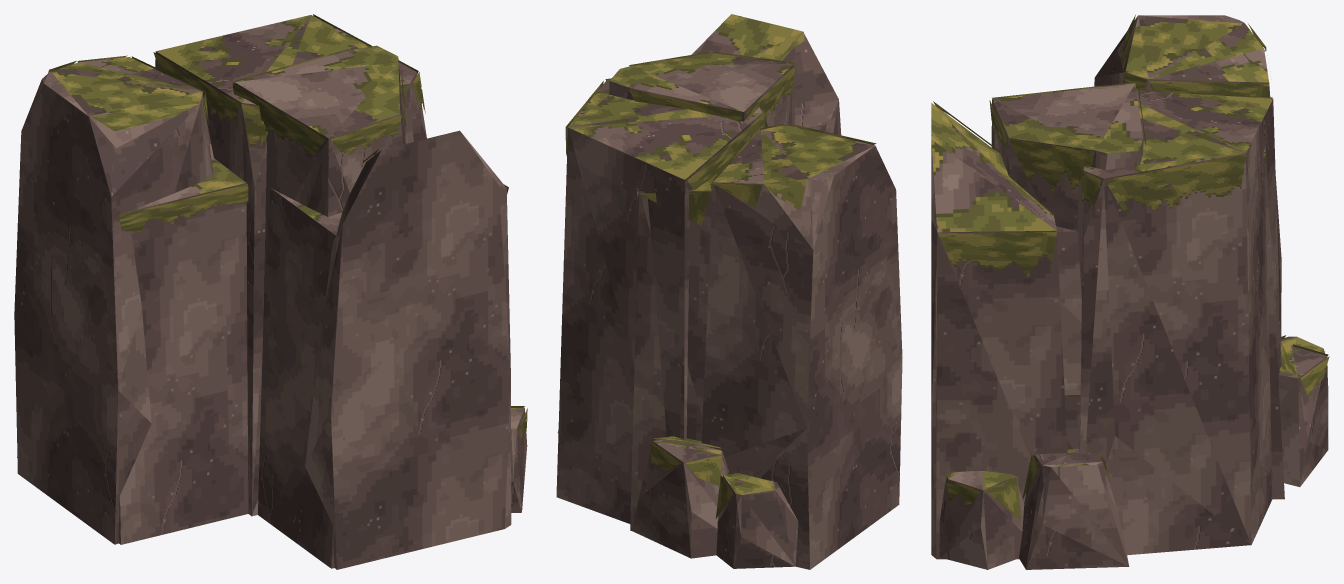
File: SM_RK11_CliffCornerOuter.fbx
3 views of the same model, side by side, from view 1: azimuth 30°, elevation 25°; view 2: azimuth 150°, elevation 25°; view 3: azimuth 270°, elevation 25° (orthographic). The views are drawn at different scales.
Visible parts, largest first — view 1: RK11_Rock, RK11_RockTop, RK11_Moss; view 2: RK11_Rock, RK11_RockTop, RK11_Moss; view 3: RK11_Rock, RK11_RockTop, RK11_Moss.
Part boxes in pixels (box(x1,y1,x2,y2)): RK11_Rock: box(14, 51, 527, 569); RK11_RockTop: box(42, 15, 524, 430); RK11_Moss: box(48, 14, 527, 445); RK11_Rock: box(556, 32, 902, 569); RK11_RockTop: box(568, 14, 874, 494); RK11_Moss: box(565, 32, 876, 518); RK11_Rock: box(931, 15, 1328, 569); RK11_RockTop: box(931, 15, 1326, 490); RK11_Moss: box(933, 15, 1329, 520).
Size of the model in its own units: 2.39 by 2.62 by 2.39.
